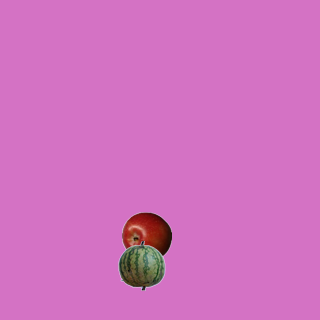Apple Braeburn: (121, 211, 171, 261)
Watermelon: (116, 240, 166, 290)
